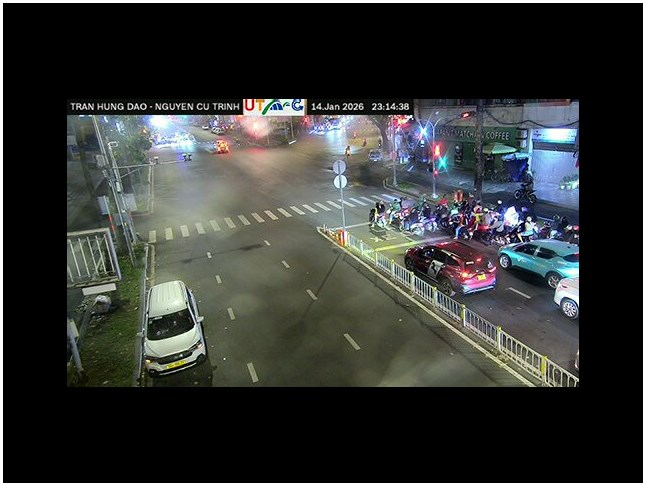car: (140, 279, 209, 375), (404, 239, 498, 295), (498, 240, 579, 288), (553, 275, 579, 319), (369, 150, 384, 162)
